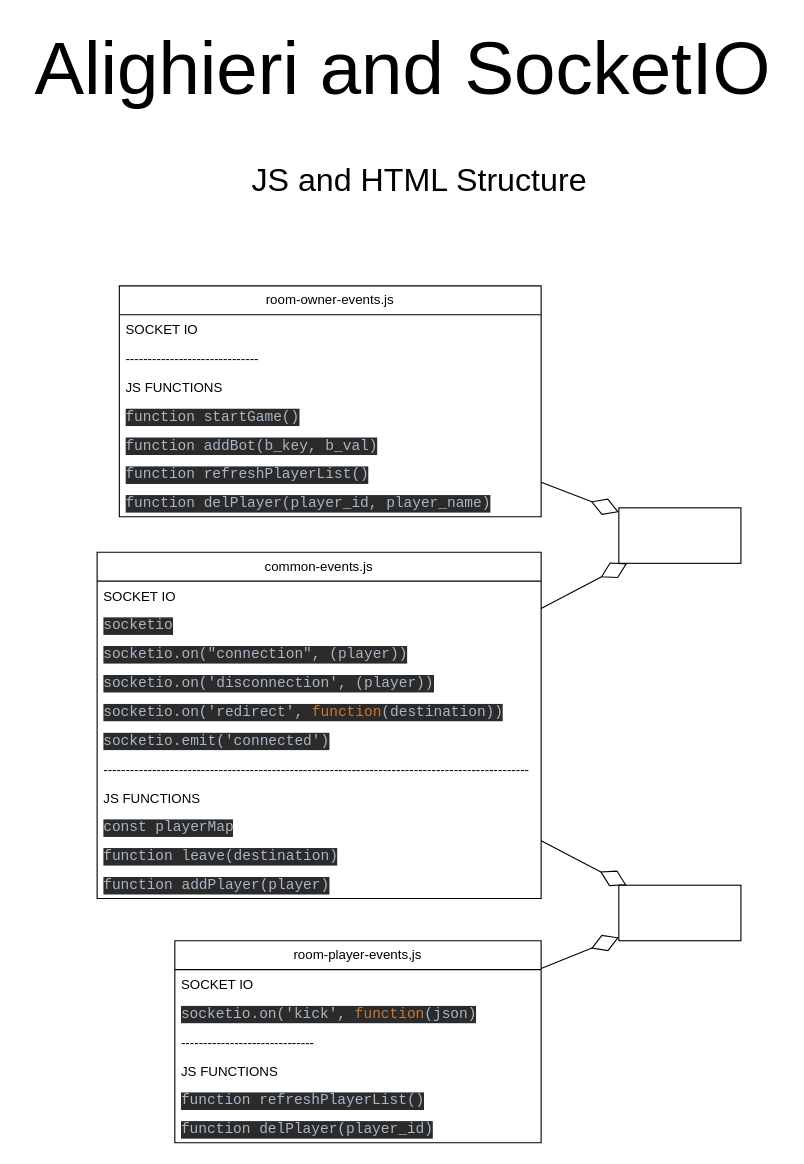
Image size: 804x1164. Some labels were removed from this diagram. The centre of each missing label's shape, as x and y in pixels:
room-owner.html: the point at 679,535
room-player.html: the point at 679,912
